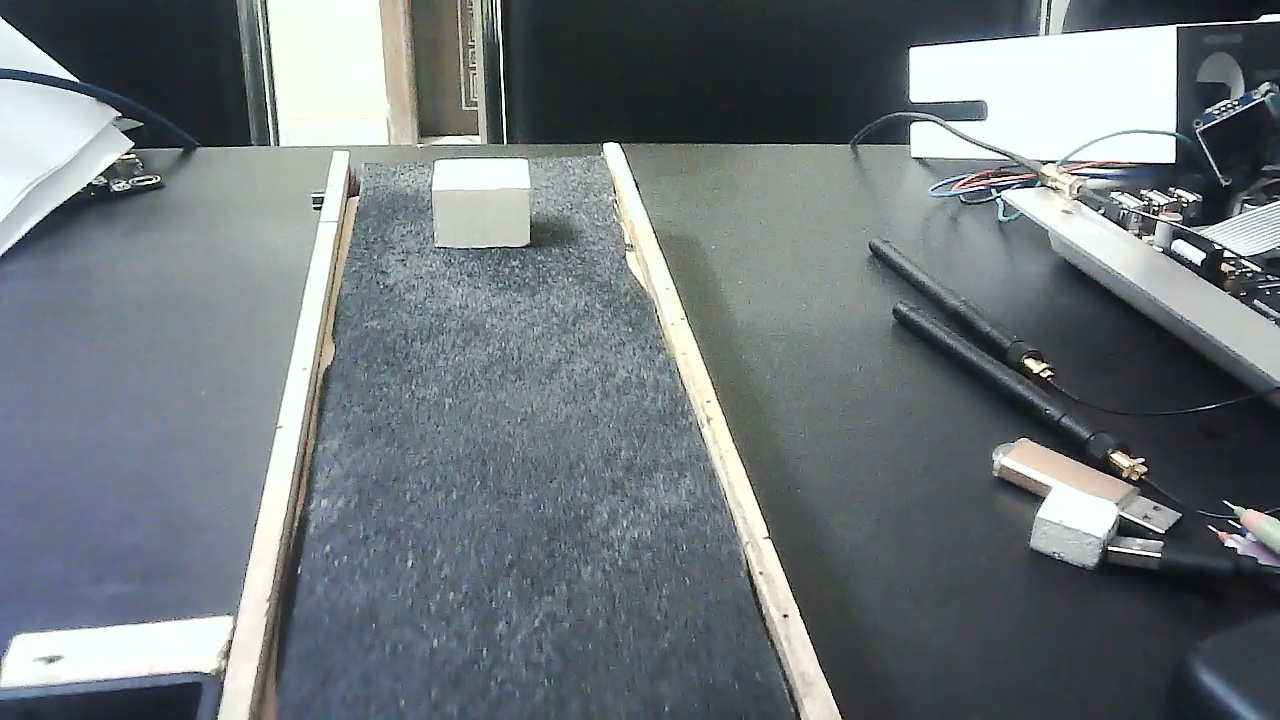Medium: (433, 154, 531, 252)
